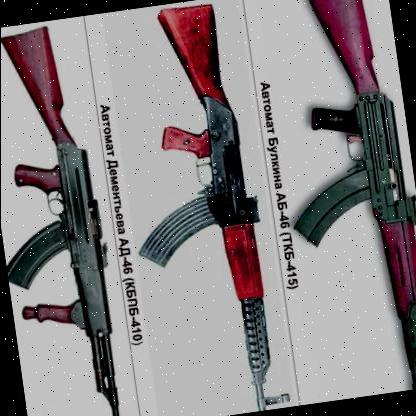rifle: (112, 0, 298, 416), (259, 0, 416, 403), (0, 22, 137, 416)
